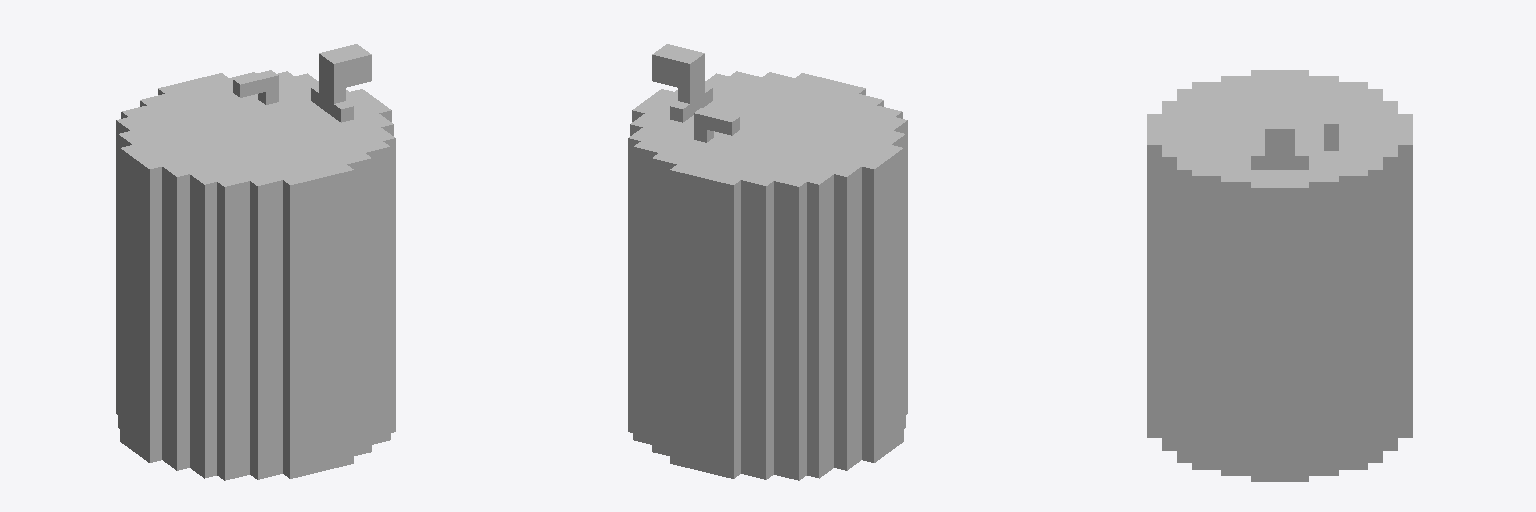
The model's file is Barrel O Beer.obj.
The picture shows the model from 3 angles: view 1: azimuth 30°, elevation 25°; view 2: azimuth 150°, elevation 25°; view 3: azimuth 270°, elevation 25°; orthographic projection.
Visible parts, largest first — view 1: object 1; view 2: object 1; view 3: object 1.
Part boxes in pixels (x1,y1,x2,y2): object 1: (116,44,395,480); object 1: (628,44,907,480); object 1: (1147,70,1412,481).
Size of the model in its own units: 1.9 by 2.7 by 1.8.